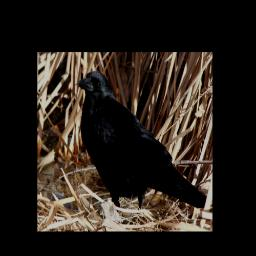Crow: (76, 70, 208, 210)
